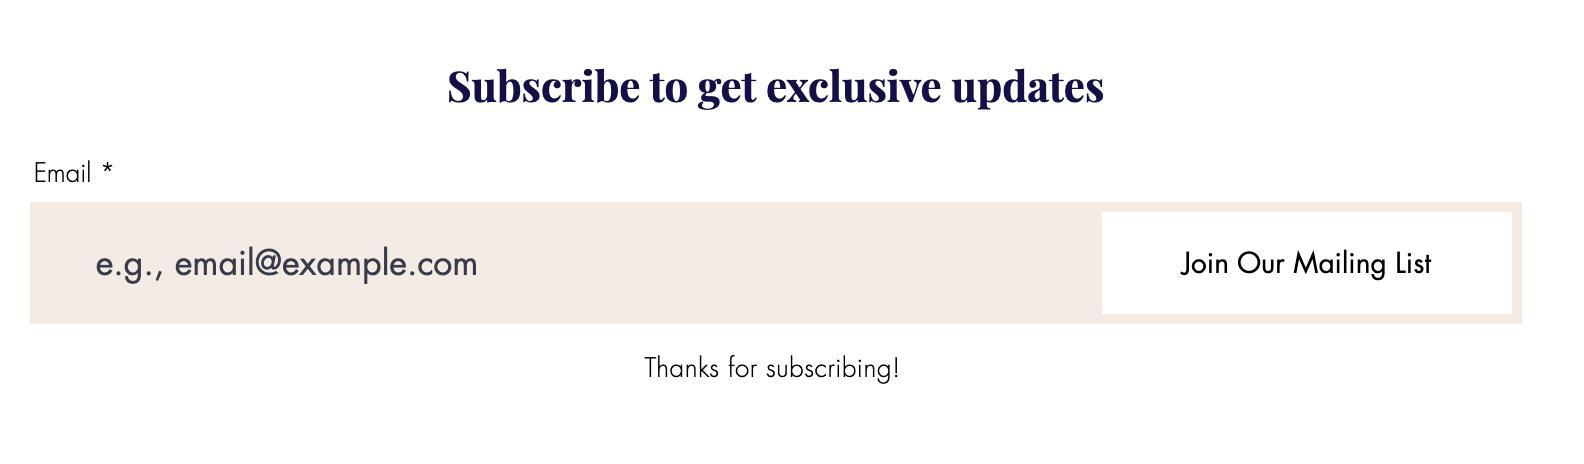button: (1098, 208, 1521, 322)
label: (26, 154, 98, 196)
